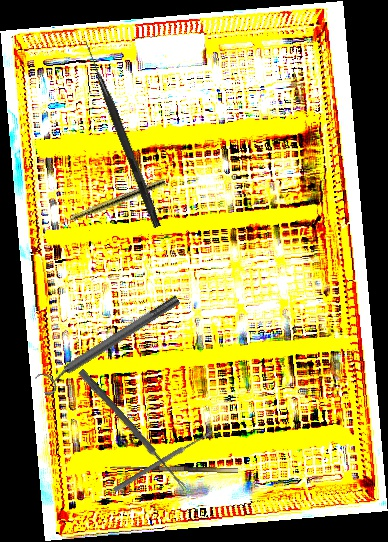Fixation Ring: (33, 288, 186, 399)
Handpiece: (50, 176, 167, 231)
Hook Surgical: (79, 39, 164, 229), (109, 463, 239, 481)
Surgical Spoon: (77, 368, 189, 492), (112, 428, 215, 494)
